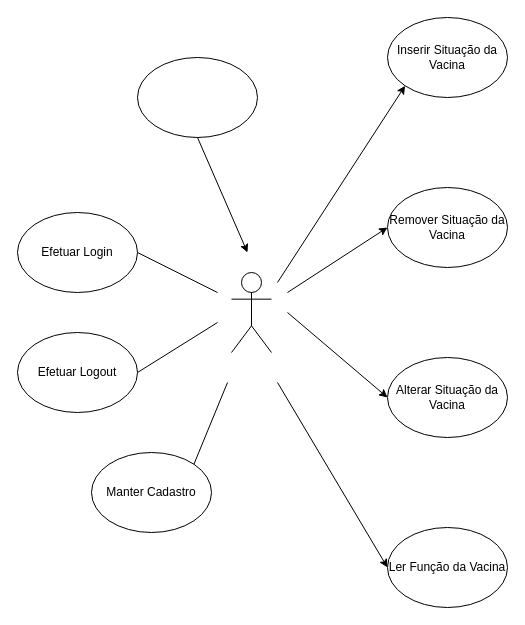
The diagram is 525 pixels wide and 625 high, and some of its shapes have lost their labels. The centre of each missing label's shape, as x and y in pixels:
"Receber Alertas no Período de Novas Dosagens da" goes at point 197,97.
"Usuário" goes at point 251,312.
